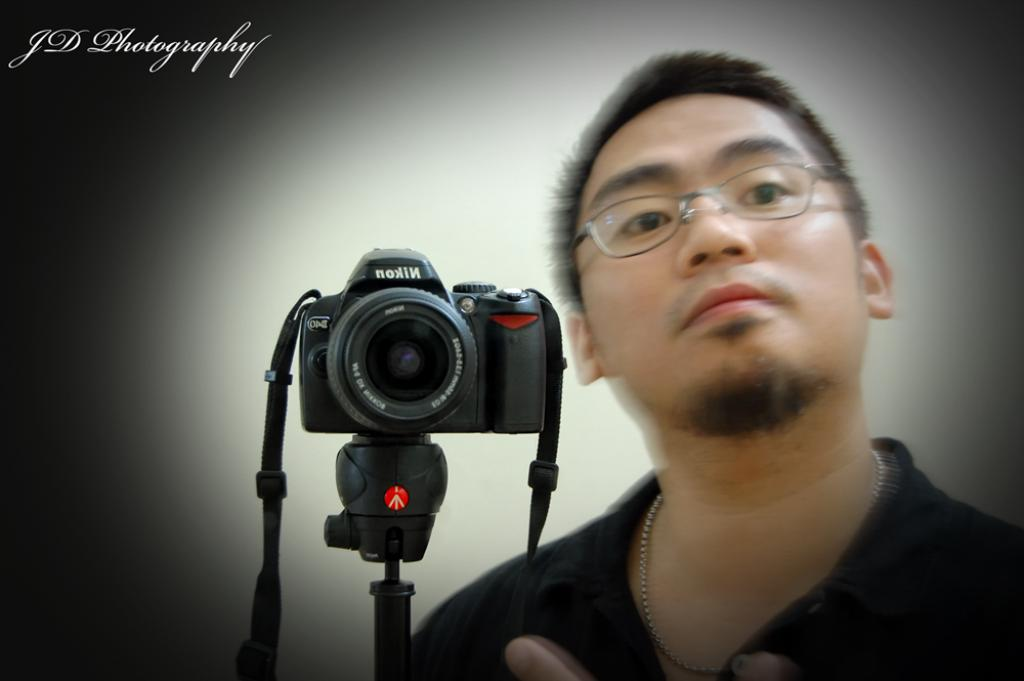Person: (410, 47, 1024, 681)
